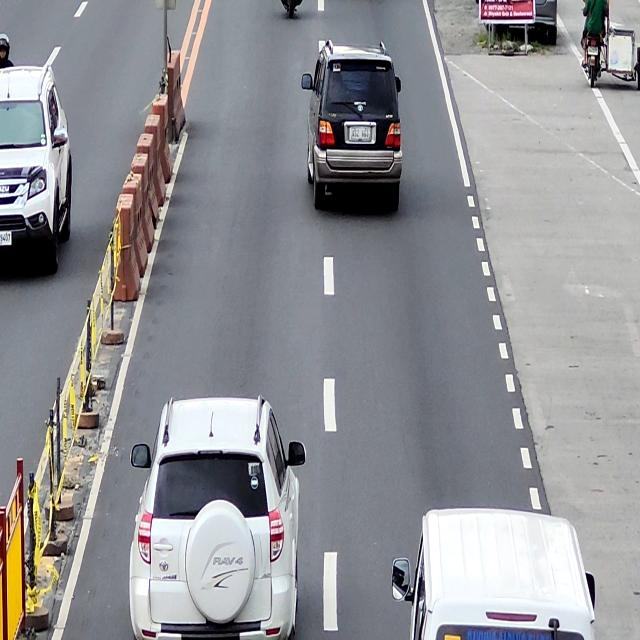Car: (128, 398, 305, 640), (392, 507, 595, 640), (303, 42, 403, 214), (0, 65, 73, 276)
License-Plate: (349, 127, 372, 142), (0, 230, 12, 246), (587, 46, 598, 56)
Tricycle: (583, 0, 639, 89)
